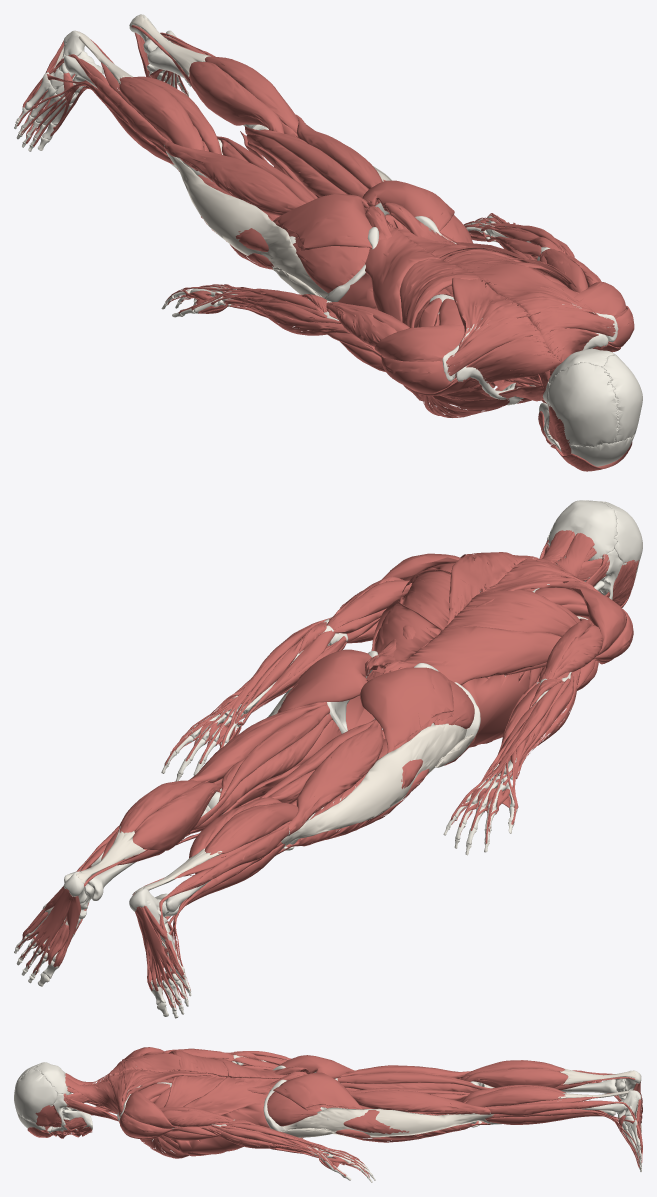
File: body-v1.glb
The picture shows the model from 3 angles, top to bottom: view 1: azimuth 30°, elevation 25°; view 2: azimuth 150°, elevation 25°; view 3: azimuth 270°, elevation 25°; orthographic projection. The views are drawn at different scales.
Visible parts, largest first — view 1: right latissimus dorsi, right iliotibial tract, right parietal bone, right gluteus maximus, long head of right biceps femoris, medial head of left gastrocnemius, ascending part of left trapezius, lateral head of right gastrocnemius, ascending part of right trapezius, descending part of right trapezius, left latissimus dorsi, spinal part of right deltoid (+28 smaller); view 2: right latissimus dorsi, right iliotibial tract, right gluteus maximus, left latissimus dorsi, long head of right biceps femoris, left gluteus maximus, medial head of left gastrocnemius, right external oblique, ascending part of left trapezius, long head of left biceps femoris, lateral head of right gastrocnemius, left semimembranosus (+27 smaller); view 3: left latissimus dorsi, left iliotibial tract, long head of left biceps femoris, left gluteus maximus, left parietal bone, medial head of right gastrocnemius, left external oblique, right latissimus dorsi, lateral head of left gastrocnemius, right semitendinosus, left vastus lateralis, ascending part of left trapezius (+44 smaller).
Part boxes in pixels (x1=…): right latissimus dorsi: x1=365, y1=220, x2=481, y2=327; right iliotibial tract: x1=166, y1=151, x2=328, y2=298; right parietal bone: x1=548, y1=362, x2=618, y2=447; right gluteus maximus: x1=273, y1=193, x2=372, y2=250; long head of right biceps femoris: x1=164, y1=142, x2=306, y2=215; medial head of left gastrocnemius: x1=189, y1=61, x2=284, y2=133; ascending part of left trapezius: x1=453, y1=263, x2=598, y2=317; lateral head of right gastrocnemius: x1=119, y1=77, x2=203, y2=170; ascending part of right trapezius: x1=451, y1=266, x2=529, y2=351; descending part of right trapezius: x1=466, y1=334, x2=562, y2=383; left latissimus dorsi: x1=385, y1=214, x2=576, y2=287; spinal part of right deltoid: x1=374, y1=324, x2=467, y2=361; right latissimus dorsi: x1=383, y1=589, x2=576, y2=685; right iliotibial tract: x1=281, y1=723, x2=466, y2=845; right gluteus maximus: x1=360, y1=667, x2=453, y2=753; left latissimus dorsi: x1=371, y1=569, x2=480, y2=673; long head of right biceps femoris: x1=288, y1=719, x2=383, y2=835; left gluteus maximus: x1=277, y1=649, x2=374, y2=713; medial head of left gastrocnemius: x1=132, y1=782, x2=220, y2=850; right external oblique: x1=444, y1=670, x2=539, y2=765; ascending part of left trapezius: x1=447, y1=552, x2=527, y2=625; long head of left biceps femoris: x1=188, y1=702, x2=327, y2=782; lateral head of right gastrocnemius: x1=204, y1=802, x2=298, y2=854; left semimembranosus: x1=193, y1=713, x2=332, y2=830; left latissimus dorsi: x1=164, y1=1070, x2=280, y2=1115; left iliotibial tract: x1=282, y1=1107, x2=493, y2=1137; long head of left biceps femoris: x1=349, y1=1089, x2=490, y2=1114; left gluteus maximus: x1=273, y1=1072, x2=362, y2=1110; left parietal bone: x1=14, y1=1069, x2=57, y2=1122; medial head of right gastrocnemius: x1=464, y1=1068, x2=568, y2=1087; left external oblique: x1=173, y1=1103, x2=303, y2=1156; right latissimus dorsi: x1=168, y1=1050, x2=287, y2=1078; lateral head of left gastrocnemius: x1=465, y1=1086, x2=565, y2=1107; right semitendinosus: x1=337, y1=1072, x2=489, y2=1089; left vastus lateralis: x1=343, y1=1110, x2=490, y2=1138; ascending part of left trapezius: x1=122, y1=1069, x2=221, y2=1105.
Size of the model in its own units: 648 by 260 by 1709.
